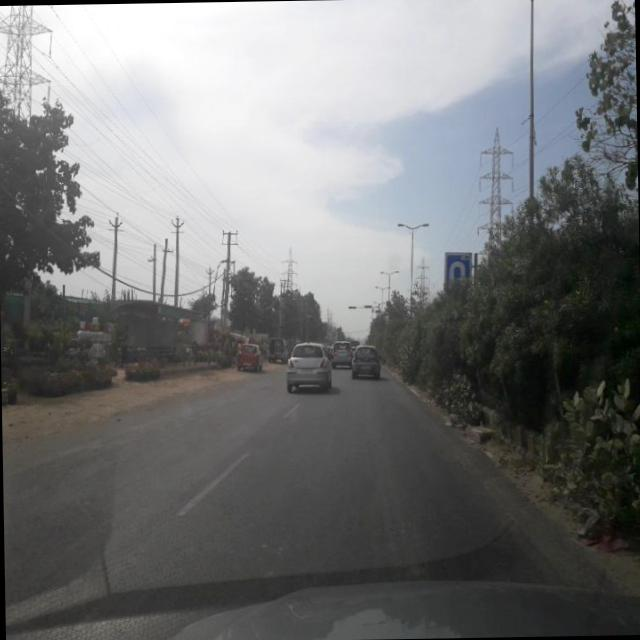crack: (19, 404, 504, 607)
